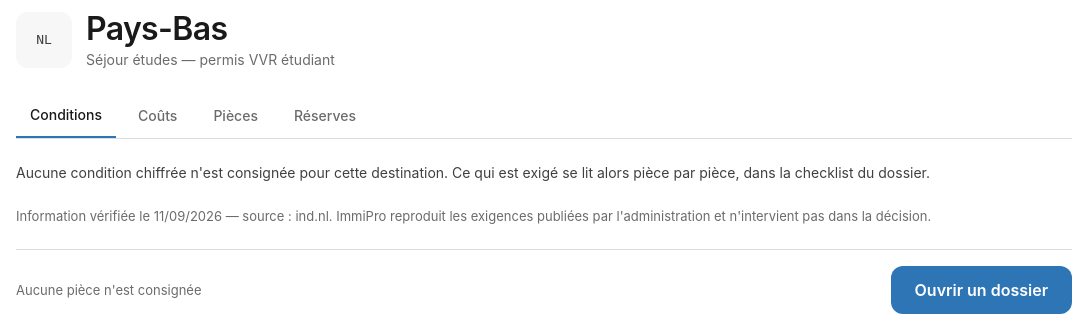
Test: C-04 — Fiche détaillée › quand une section n'a rien à montrer › l'onglet Coûts dit ce qu'il en est au lieu de se taire
Click the tab "Coûts" at (158, 116), box [124,94,191,138]
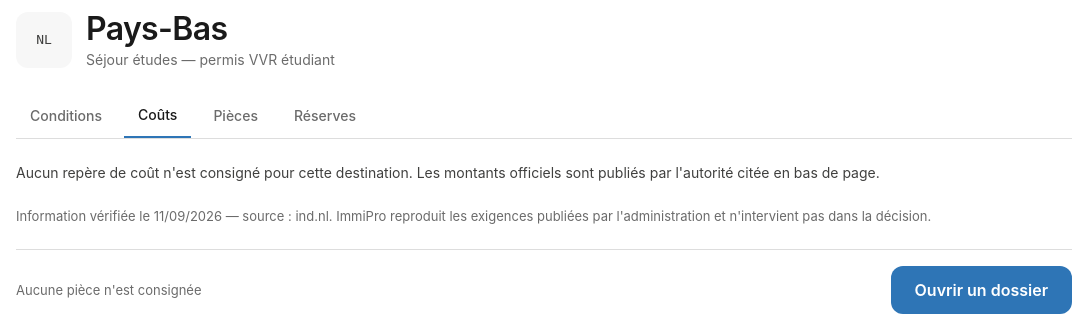
expect the panel does not show "": met
expect the panel shows "Aucun repère de coût n'est consigné pour cette destination. Les montants officiels sont publiés par l'autorité citée en bas de page.": met, box [16,164,880,181]
